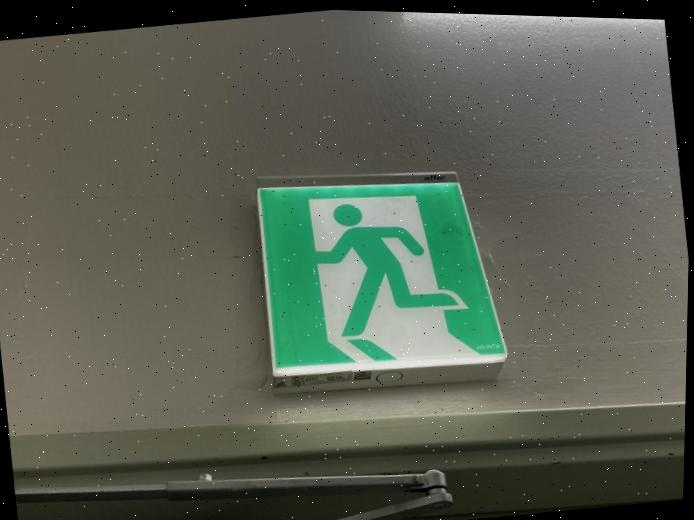emergency_exit: (255, 171, 508, 391)
